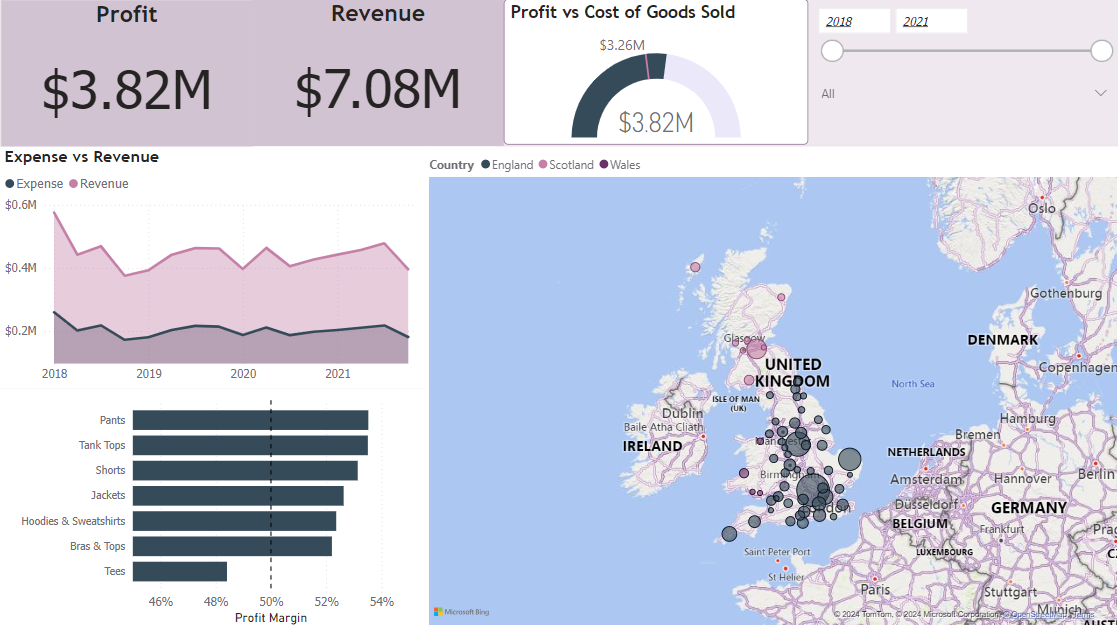

Layout of this report page (visuals, bound fields, positions):
{"tool":"powerbi","page":{"name":"CFO","canvas":[1280,720],"ordinal":0},"visuals":[{"type":"areaChart","title":"Expense vs Revenue","fields":{"Y":["Sum(Orders.Cost_of_Goods_Sold)","Sum(Orders.Sales_Amount)"],"Category":["Orders.Order_Date.Variation.Date Hierarchy.Year","Orders.Order_Date.Variation.Date Hierarchy.Quarter","Orders.Order_Date.Variation.Date Hierarchy.Month","Orders.Order_Date.Variation.Date Hierarchy.Day"]},"box":[0,168.3,486.7,276.7],"z":0},{"type":"clusteredBarChart","title":"Sum of Profit Margin by Product_Category","fields":{"Category":["Products.Product_Category"],"Y":["Avg(Orders.Profit_Margin)"]},"box":[0,445,486.7,275],"z":1000},{"type":"card","title":"Profit","fields":{"Values":["Sum(Orders.Profit)"]},"box":[1.4,1.4,287.1,167.1],"z":2000},{"type":"card","title":"Revenue","fields":{"Values":["Sum(Orders.Sales_Amount)"]},"box":[288,0,287,168],"z":3000},{"type":"gauge","title":"Profit vs Cost of Goods Sold","fields":{"Y":["Sum(Orders.Profit)"],"MaxValue":["Sum(Orders.Sales_Amount)"],"TargetValue":["Sum(Orders.Cost_of_Goods_Sold)"]},"box":[575,0,348.3,166.7],"z":4000},{"type":"slicer","fields":{"Values":["Orders.Order_Date.Variation.Date Hierarchy.Year"]},"box":[922.5,0,357.5,82.5],"z":5000},{"type":"map","fields":{"Category":["Retailers.Region"],"Series":["Retailers.Country"],"Size":["Sum(Orders.Profit)"]},"box":[485,168.8,795,551.2],"z":6000},{"type":"slicer","fields":{"Values":["Retailers.Area"]},"box":[922.5,82.5,357.5,82.5],"z":7000}]}

Visuals, with their boxes in screenshot pixels (x1, y1, x2, y2), scaled from the page's 1280x720 canvas onto the 1118x627 screenshot:
"Expense vs Revenue" areaChart: box(0, 147, 425, 388)
"Sum of Profit Margin by Product_Category" clusteredBarChart: box(0, 388, 425, 626)
"Profit" card: box(1, 1, 252, 147)
"Revenue" card: box(252, 0, 502, 146)
"Profit vs Cost of Goods Sold" gauge: box(502, 0, 806, 145)
slicer - Orders.Order_Date.Variation.Date Hierarchy.Year: box(806, 0, 1117, 72)
map - Retailers.Region x Retailers.Country: box(424, 147, 1117, 626)
slicer - Retailers.Area: box(806, 72, 1117, 144)
